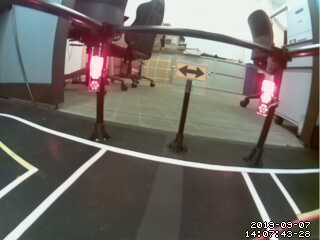Left_Right_sign: (171, 62, 210, 83)
Traffic_light_red: (259, 74, 278, 119), (87, 54, 105, 94)
